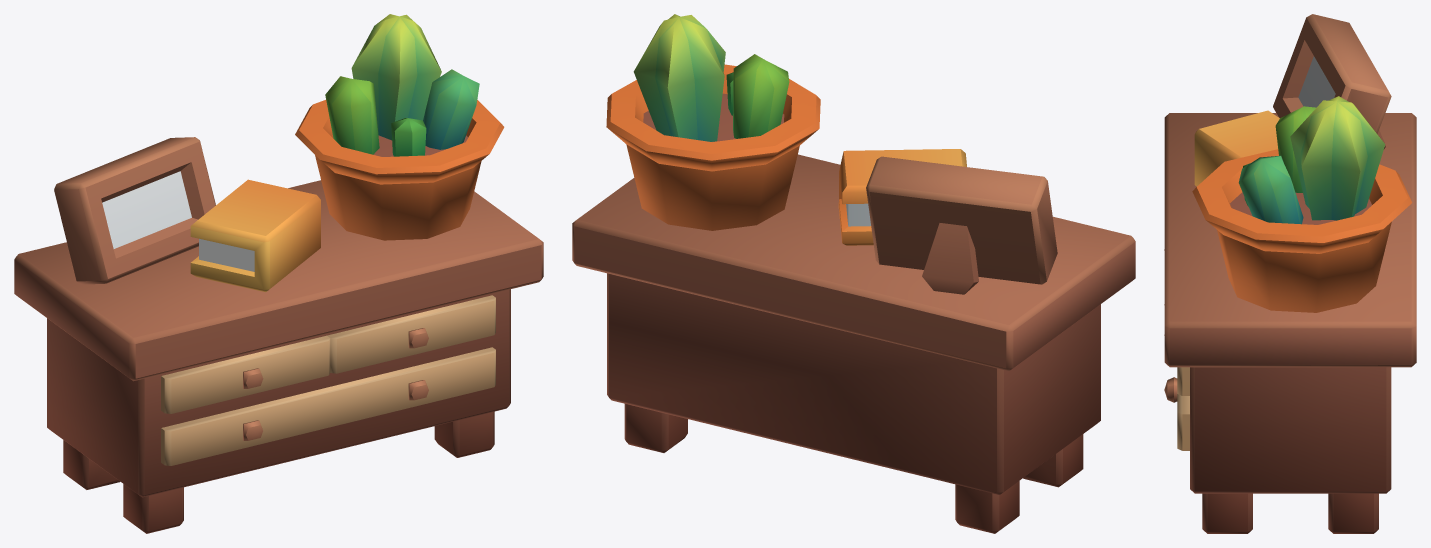
Rendered from cc0-cabinet-decorated-lod1.glb.
3 views of the same model, side by side, from view 1: azimuth 30°, elevation 25°; view 2: azimuth 150°, elevation 25°; view 3: azimuth 270°, elevation 25° (orthographic). The views are drawn at different scales.
Visible parts, largest first — view 1: part_0; view 2: part_0; view 3: part_0.
Boxes of the visible parts, x1=… form: part_0: x1=14, y1=14, x2=543, y2=533; part_0: x1=572, y1=14, x2=1135, y2=533; part_0: x1=1164, y1=14, x2=1416, y2=533.
Size of the model in its own units: 2.04 by 1.83 by 1.
Materials: 1 (1 with a texture image).
